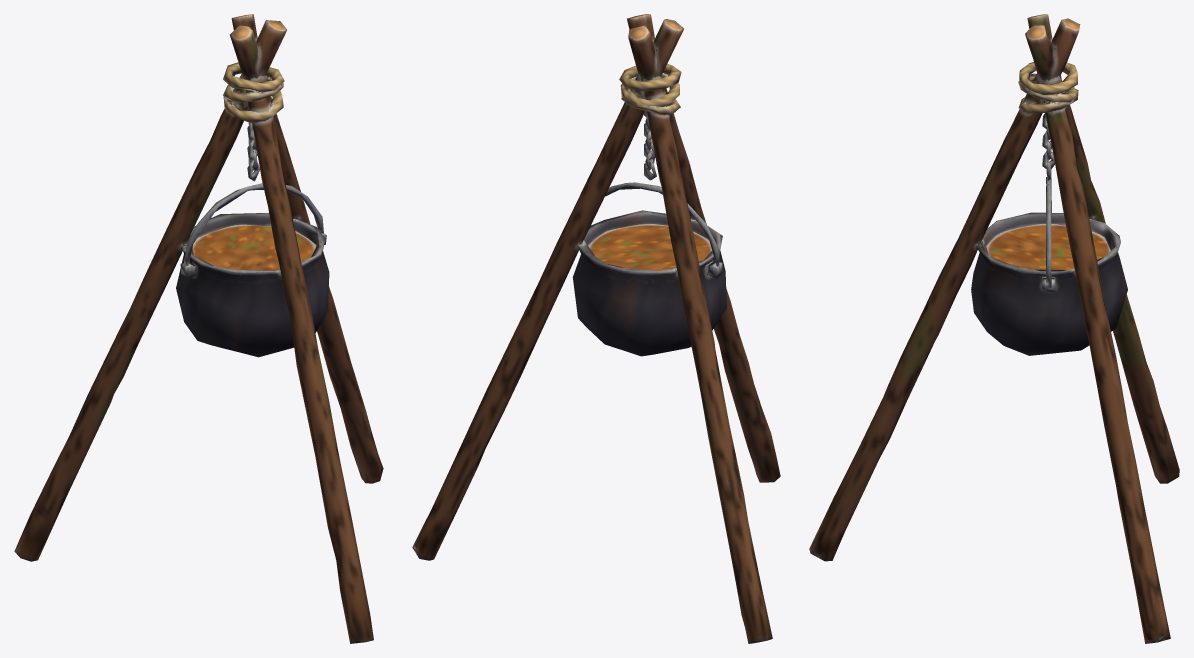
The model's file is cook_tripod.glb.
The picture shows the model from 3 angles, left to right: view 1: azimuth 30°, elevation 25°; view 2: azimuth 150°, elevation 25°; view 3: azimuth 270°, elevation 25°; orthographic projection.
Parts seen in each view (by area): view 1: cook_tripod; view 2: cook_tripod; view 3: cook_tripod.
Boxes of the visible parts, x1,y1,x2,y2 form: cook_tripod: [14, 14, 383, 643]; cook_tripod: [412, 14, 780, 643]; cook_tripod: [809, 14, 1179, 643].
Size of the model in its own units: 1.14 by 1.62 by 1.01.
1 material, 1 textured.
